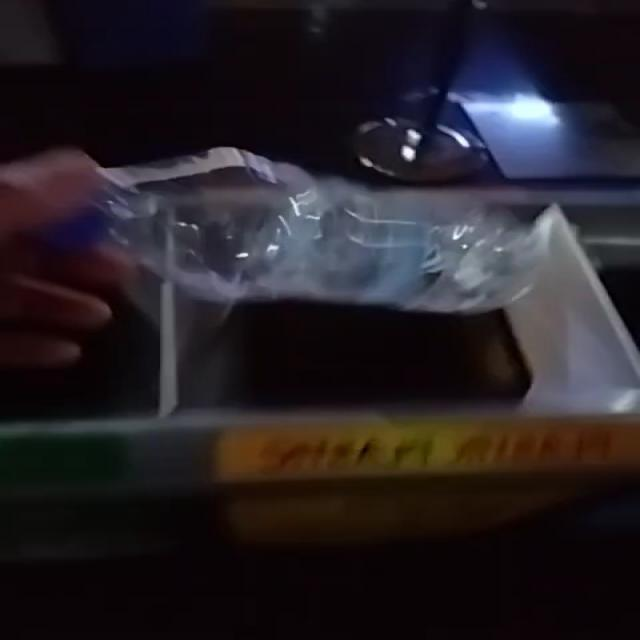Plastic: (85, 148, 537, 313)
